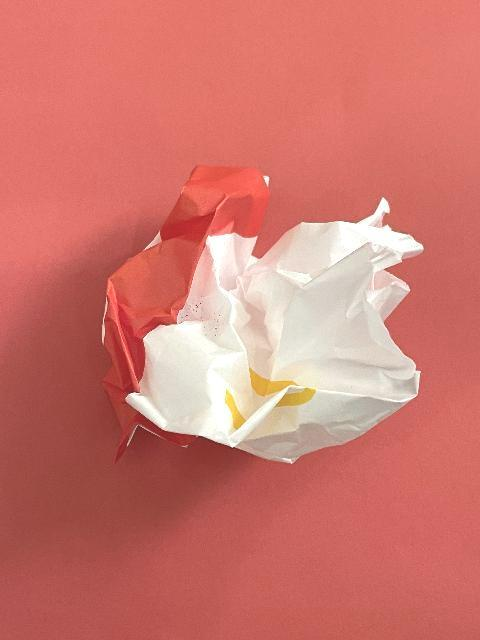paperbag: (99, 164, 423, 466)
